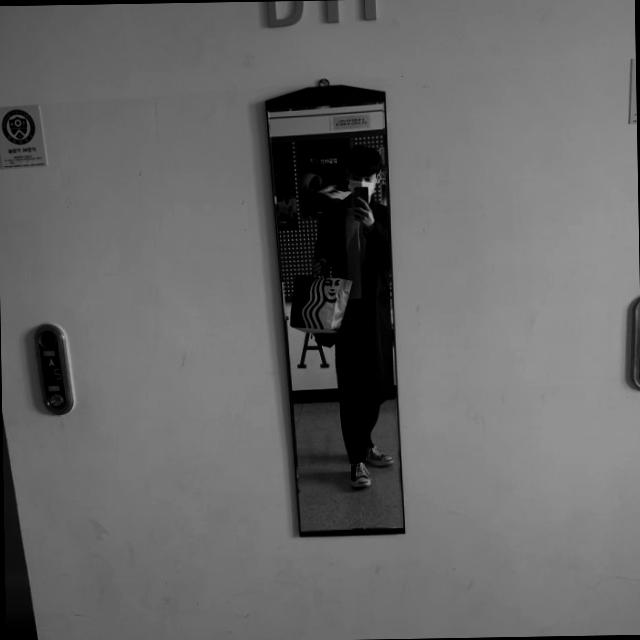coat: (314, 194, 394, 410)
slacks: (335, 297, 381, 462)
